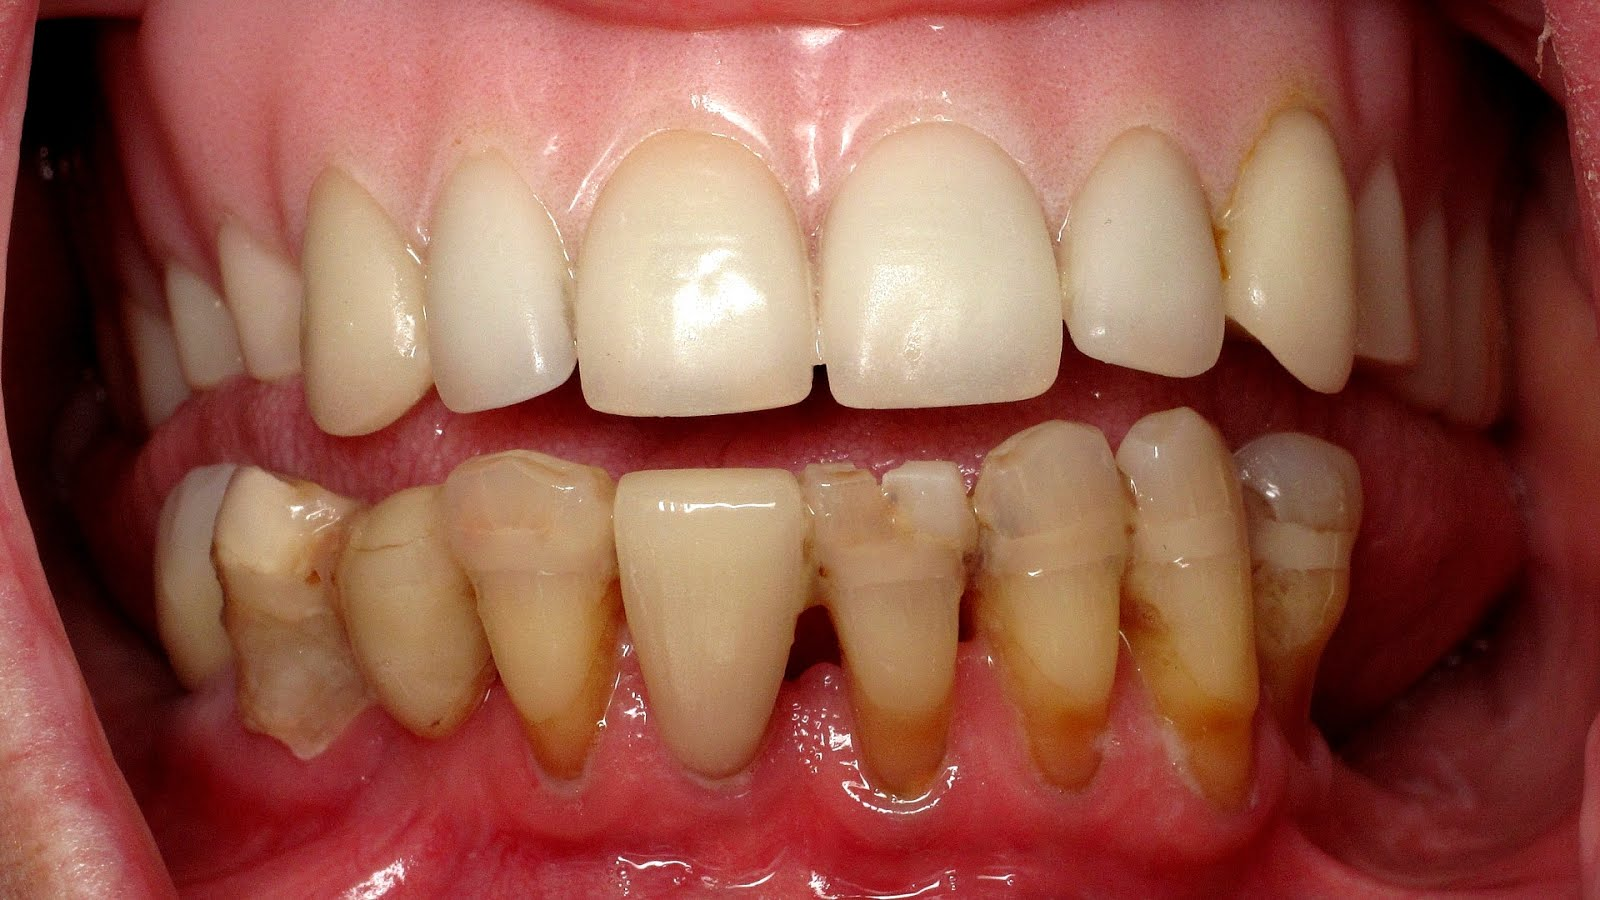LL1BC_decay: (1226, 429, 1359, 749)
LLCI_decay: (816, 452, 976, 799)
LLC_decay: (1121, 408, 1249, 784)
LLLI_decay: (974, 426, 1121, 789)
LR1BC_decay: (205, 471, 346, 763)
LRCI_healthy: (609, 460, 814, 800)
LRC_healthy: (338, 474, 502, 749)
LRLI_healthy: (443, 462, 621, 795)
ULCI_healthy: (815, 122, 1060, 412)
ULC_healthy: (1213, 99, 1362, 401)
ULLI_healthy: (1053, 108, 1224, 388)
URCI_healthy: (578, 118, 815, 416)
URC_healthy: (284, 173, 429, 438)
URLI_healthy: (421, 133, 575, 416)
